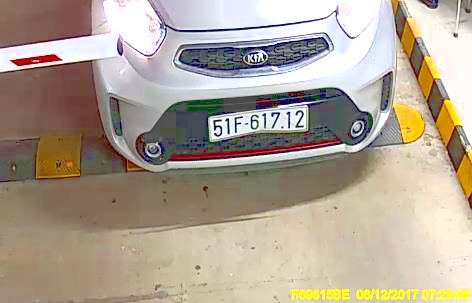plate: (204, 102, 311, 141)
